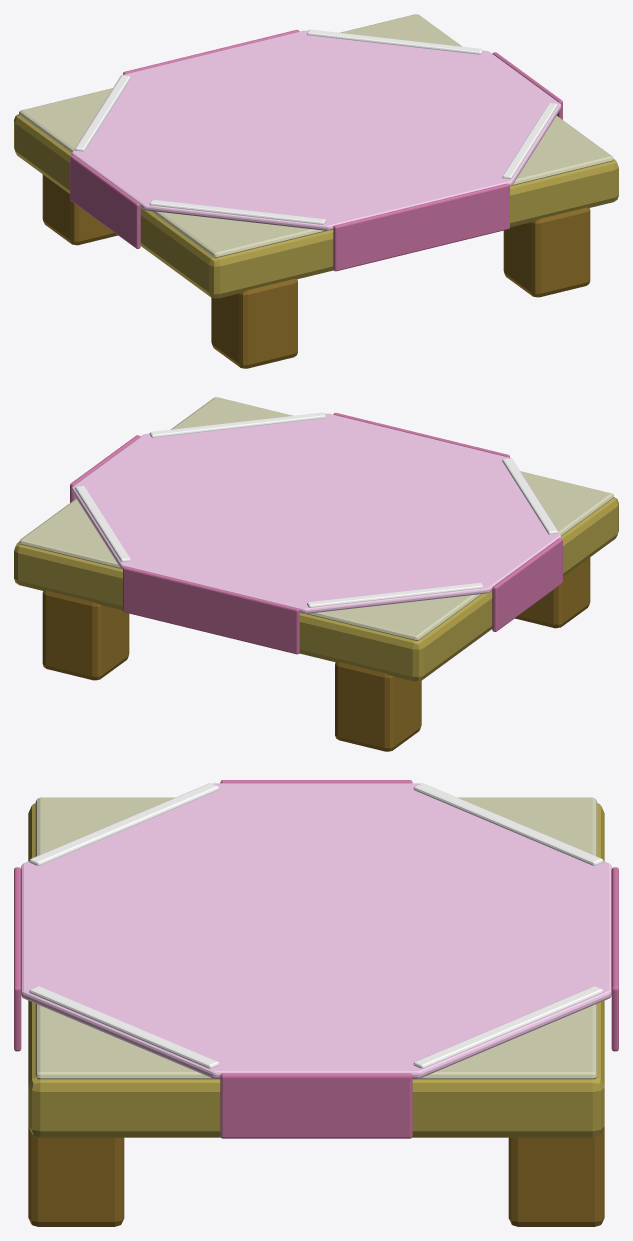
Rendered from prop_table.glb.
The picture shows the model from 3 angles, top to bottom: view 1: azimuth 30°, elevation 25°; view 2: azimuth 150°, elevation 25°; view 3: azimuth 270°, elevation 25°; orthographic projection. The views are drawn at different scales.
Visible parts, largest first — view 1: Cloth, Board, BoardTop, Hem_F, Leg_RF, Leg_LF, Hem_L, Leg_LB, Piping_2, Piping_0, Piping_3, Piping_1 (+1 smaller); view 2: Cloth, Board, BoardTop, Hem_B, Leg_RB, Leg_LB, Hem_L, Leg_LF, Piping_1, Piping_3, Piping_0, Piping_2 (+1 smaller); view 3: Cloth, Board, BoardTop, Hem_R, Leg_RB, Leg_RF, Piping_0, Piping_3, Piping_1, Piping_2, Hem_B, Hem_F (+1 smaller).
Part boxes in pixels (left/top/right/bottom): Cloth: left=71, top=30, right=561, bottom=230; Board: left=14, top=114, right=618, bottom=298; BoardTop: left=19, top=14, right=613, bottom=257; Hem_F: left=333, top=183, right=509, bottom=271; Leg_RF: left=503, top=207, right=590, bottom=297; Leg_LF: left=211, top=279, right=297, bottom=368; Hem_L: left=70, top=155, right=140, bottom=248; Leg_LB: left=42, top=174, right=117, bottom=245; Piping_2: left=307, top=29, right=483, bottom=54; Piping_0: left=149, top=199, right=325, bottom=224; Piping_3: left=75, top=75, right=130, bottom=151; Piping_1: left=502, top=103, right=557, bottom=178; Cloth: left=71, top=413, right=561, bottom=613; Board: left=14, top=497, right=618, bottom=681; BoardTop: left=19, top=397, right=613, bottom=640; Hem_B: left=123, top=566, right=299, bottom=654; Leg_RB: left=42, top=590, right=129, bottom=680; Leg_LB: left=335, top=662, right=421, bottom=751; Hem_L: left=492, top=538, right=562, bottom=631; Leg_LF: left=515, top=557, right=590, bottom=628; Piping_1: left=149, top=412, right=325, bottom=437; Piping_3: left=307, top=582, right=483, bottom=607; Piping_0: left=502, top=458, right=557, bottom=534; Piping_2: left=75, top=486, right=130, bottom=561; Cloth: left=21, top=783, right=611, bottom=1078; Board: left=28, top=803, right=604, bottom=1137; BoardTop: left=35, top=797, right=597, bottom=1079; Hem_R: left=220, top=1073, right=412, bottom=1138; Leg_RB: left=508, top=1126, right=604, bottom=1226; Leg_RF: left=28, top=1126, right=124, bottom=1226; Piping_0: left=29, top=783, right=219, bottom=865; Piping_3: left=413, top=783, right=603, bottom=865; Piping_1: left=29, top=986, right=219, bottom=1068; Piping_2: left=413, top=986, right=603, bottom=1068; Hem_B: left=611, top=867, right=618, bottom=1051; Hem_F: left=14, top=867, right=21, bottom=1051.
Bounding box in the file's own units: 1.83 × 0.5312 × 1.58.
